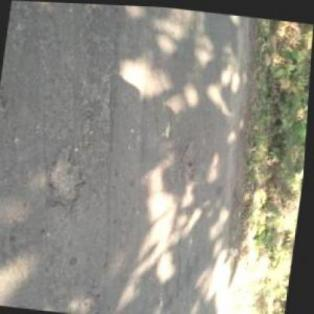Hueco: (43, 145, 91, 213), (177, 136, 204, 181)
